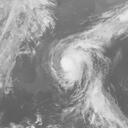cyclone: (46, 34, 98, 91)
